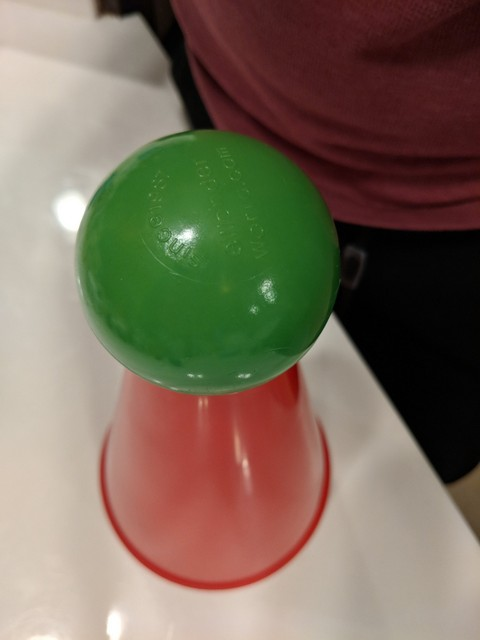Ball: (73, 130, 338, 383)
